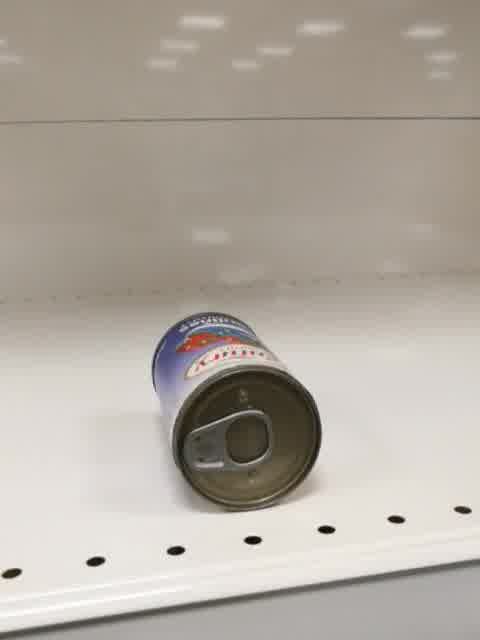sardine: (150, 311, 321, 512)
